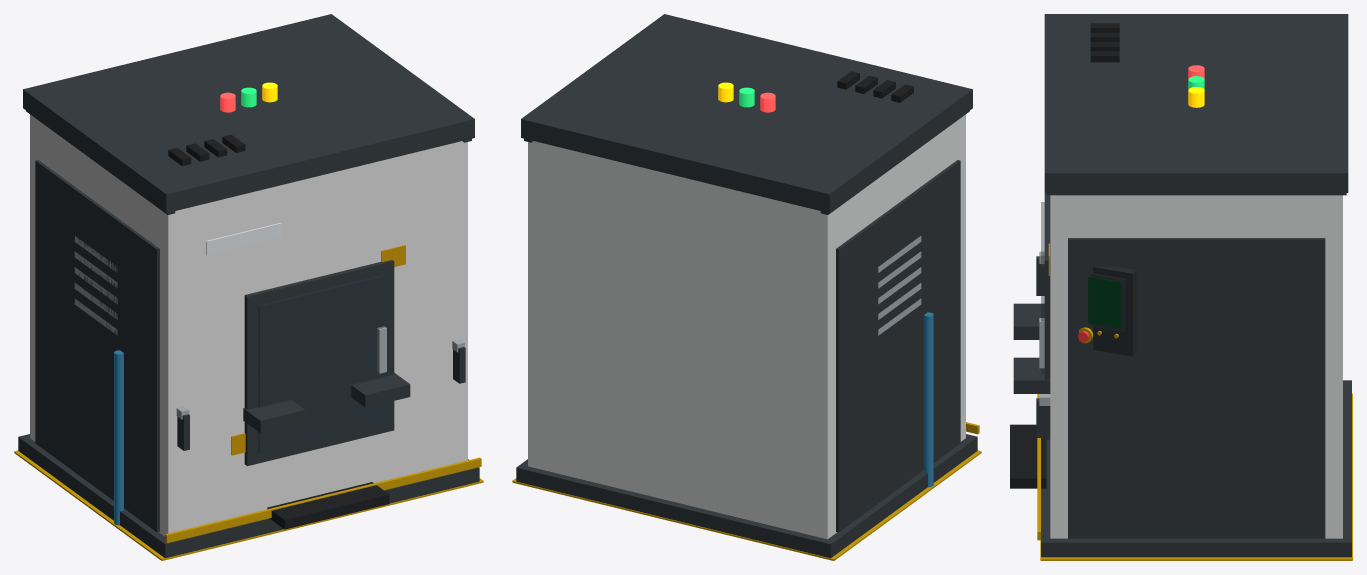
The picture shows the model from 3 angles, left to right: view 1: azimuth 30°, elevation 25°; view 2: azimuth 150°, elevation 25°; view 3: azimuth 270°, elevation 25°; orthographic projection. The views are drawn at different scales.
Visible parts, largest first — view 1: machine:body, machine:roof, machine:panel:-1, door:frame, door:inner, door:loading, machine:plinth, machine:chip-tray, marking:warning-stripe, machine:coolant-return, machine:way-cover-left, machine:way-cover-right (+3 smaller); view 2: machine:body, machine:roof, machine:panel:-1, machine:plinth, machine:coolant-return, marking:footprint-back, marking:footprint-left; view 3: machine:panel:1, machine:roof, machine:body, machine:plinth, machine:chip-tray, panel:body, signal:panel-screen, door:frame, marking:footprint-right, machine:way-cover-right, machine:way-cover-left, machine:bevel:1 (+3 smaller).
Boxes of the visible parts, x1=… form: machine:body: x1=30, y1=114, x2=467, y2=536; machine:roof: x1=23, y1=14, x2=474, y2=212; machine:panel:-1: x1=35, y1=160, x2=159, y2=532; door:frame: x1=244, y1=260, x2=394, y2=465; door:inner: x1=258, y1=275, x2=384, y2=453; door:loading: x1=253, y1=269, x2=387, y2=457; machine:plinth: x1=18, y1=434, x2=479, y2=558; machine:chip-tray: x1=267, y1=482, x2=389, y2=529; marking:warning-stripe: x1=165, y1=457, x2=481, y2=543; machine:coolant-return: x1=114, y1=350, x2=123, y2=525; machine:way-cover-left: x1=243, y1=399, x2=305, y2=433; machine:way-cover-right: x1=350, y1=373, x2=410, y2=407; machine:body: x1=528, y1=114, x2=965, y2=539; machine:roof: x1=521, y1=14, x2=972, y2=212; machine:panel:-1: x1=836, y1=160, x2=960, y2=532; machine:plinth: x1=516, y1=434, x2=977, y2=558; machine:coolant-return: x1=923, y1=312, x2=933, y2=487; marking:footprint-back: x1=512, y1=481, x2=835, y2=560; marking:footprint-left: x1=833, y1=451, x2=981, y2=560; machine:panel:1: x1=1068, y1=238, x2=1325, y2=538; machine:roof: x1=1044, y1=14, x2=1348, y2=192; machine:body: x1=1050, y1=195, x2=1342, y2=538; machine:plinth: x1=1041, y1=380, x2=1351, y2=557; machine:chip-tray: x1=1010, y1=424, x2=1046, y2=488; panel:body: x1=1093, y1=267, x2=1136, y2=356; signal:panel-screen: x1=1088, y1=277, x2=1121, y2=328; door:frame: x1=1044, y1=193, x2=1050, y2=439; marking:footprint-right: x1=1041, y1=557, x2=1351, y2=560; machine:way-cover-right: x1=1013, y1=357, x2=1050, y2=393; machine:way-cover-left: x1=1013, y1=303, x2=1044, y2=339; machine:bevel:1: x1=1046, y1=193, x2=1346, y2=195.
Bounding box in the file's own units: 2.19 × 2.41 × 1.88.
